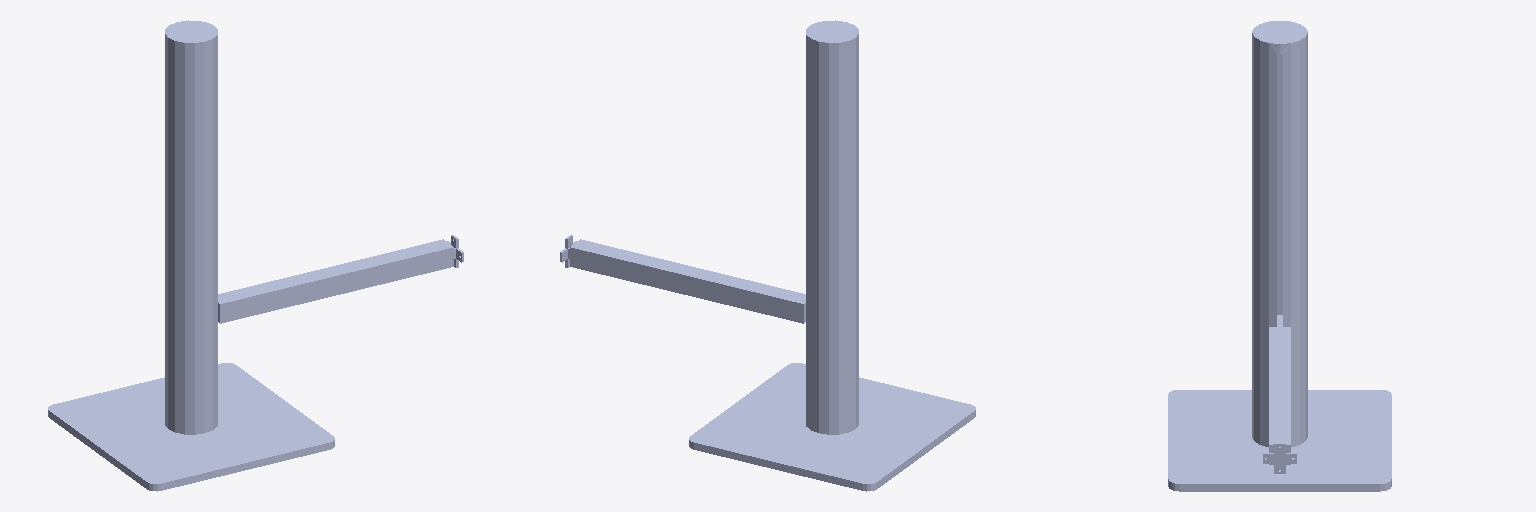
The robot description file, URDF, robot "my_robot":
<?xml version='1.0' encoding='utf-8'?>
<robot name="my_robot">
  <link name="base_link">
    <inertial>
      <origin xyz="-8.6455E-17 -7.6229E-18 0.0079611" rpy="0 0 0" />
      <mass value="2.4357" />
      <inertia ixx="0.031905" ixy="6.3527E-18" ixz="-1.6146E-20" iyy="0.031905" iyz="2.8691E-18" izz="0.063649" />
    </inertial>
    <visual>
      <origin xyz="0.000000 0.000000 0.000000" rpy="-0.000000 0.000000 -0.000000" />
      <geometry>
        <mesh filename="package://my_robot/meshes/base_link.STL" />
      </geometry>
      <material name="">
        <color rgba="0.79216 0.81961 0.93333 1" />
      </material>
    </visual>
    <collision>
      <origin xyz="0.000000 0.000000 0.000000" rpy="-0.000000 0.000000 -0.000000" />
      <geometry>
        <mesh filename="package://my_robot/meshes/base_link.STL" />
      </geometry>
    </collision>
  </link>
  <link name="Stand">
    <inertial>
      <origin xyz="-0.0014687 2.3065E-16 0.39733" rpy="0 0 0" />
      <mass value="5.8952" />
      <inertia ixx="0.32052" ixy="1.7511E-20" ixz="0.00080234" iyy="0.32022" iyz="-1.8103E-16" izz="0.0075058" />
    </inertial>
    <visual>
      <origin xyz="0.000000 0.000000 0.000000" rpy="-0.000000 0.000000 -0.000000" />
      <geometry>
        <mesh filename="package://my_robot/meshes/Stand.STL" />
      </geometry>
      <material name="">
        <color rgba="0.79216 0.81961 0.93333 1" />
      </material>
    </visual>
    <collision>
      <origin xyz="0.000000 0.000000 0.000000" rpy="-0.000000 0.000000 -0.000000" />
      <geometry>
        <mesh filename="package://my_robot/meshes/Stand.STL" />
      </geometry>
    </collision>
  </link>
  <joint name="q1" type="continuous">
    <origin xyz="0 0 0" rpy="0 0 0" />
    <parent link="base_link" />
    <child link="Stand" />
    <axis xyz="0 0 1" />
  </joint>
  <link name="Arm">
    <inertial>
      <origin xyz="0.27245 -8.9366E-17 5.5511E-17" rpy="0 0 0" />
      <mass value="0.4672" />
      <inertia ixx="0.00017046" ixy="4.1404E-18" ixz="-1.5384E-18" iyy="0.011946" iyz="-7.2188E-22" izz="0.011943" />
    </inertial>
    <visual>
      <origin xyz="0.000000 0.000000 -0.235000" rpy="-0.000000 0.000000 -0.000000" />
      <geometry>
        <mesh filename="package://my_robot/meshes/Arm.STL" />
      </geometry>
      <material name="">
        <color rgba="0.79216 0.81961 0.93333 1" />
      </material>
    </visual>
    <collision>
      <origin xyz="0.000000 0.000000 -0.235000" rpy="-0.000000 0.000000 -0.000000" />
      <geometry>
        <mesh filename="package://my_robot/meshes/Arm.STL" />
      </geometry>
    </collision>
  </link>
  <joint name="q2" type="prismatic">
    <origin xyz="0 0 0.235" rpy="0 0 0" />
    <parent link="Stand" />
    <child link="Arm" />
    <axis xyz="0 0 1" />
    <limit lower="0" upper="0.54" effort="0" velocity="0" />
  </joint>
  <link name="Hand">
    <inertial>
      <origin xyz="-0.22693 4.31E-07 0" rpy="0 -1.5707963267948966 0" />
      <mass value="0.21681" />
      <inertia ixx="1.9957E-05" ixy="2.2948E-08" ixz="0" iyy="0.0048493" iyz="0" izz="0.0048493" />
    </inertial>
    <visual>
      <origin xyz="0.235000 0.000000 -0.090000" rpy="0 -1.5707963267948966 0" />
      <geometry>
        <mesh filename="package://my_robot/meshes/Hand.STL" />
      </geometry>
      <material name="">
        <color rgba="0.79216 0.81961 0.93333 1" />
      </material>
    </visual>
    <collision>
      <origin xyz="0.235000 0.000000 -0.090000" rpy="0 -1.5707963267948966 0" />
      <geometry>
        <mesh filename="package://my_robot/meshes/Hand.STL" />
      </geometry>
    </collision>
  </link>
  <joint name="q3" type="prismatic">
    <origin xyz="0.09 0 0" rpy="0 1.5707963267948966 0" />
    <parent link="Arm" />
    <child link="Hand" />
    <axis xyz="0 0 1" />
    <limit lower="0" upper="0.4" effort="0" velocity="0" />
  </joint>
  <link name="End" />
  <joint name="Enf" type="fixed">
    <origin xyz="0 0 0.475" rpy="0 -1.5707963267948966 0" />
    <parent link="Hand" />
    <child link="End" />
    <axis xyz="0 0 0" />
  </joint>
</robot>

--- What the picture shows (computed from the rendered views, not written in the file) ---
Views: 3 orthographic renders of the robot side by side, from view 1: azimuth 30°, elevation 25°; view 2: azimuth 150°, elevation 25°; view 3: azimuth 270°, elevation 25°.
Model my_robot with 5 links and 4 joints (1 continuous, 2 prismatic, 1 fixed), rooted at base_link, posed every joint at zero.
Visible links, largest first — view 1: Stand, base_link, Arm; view 2: Stand, base_link, Arm; view 3: Stand, base_link, Arm, Hand.
Link boxes in pixels (x1,y1,x2,y2): Stand: (165,20,217,434); base_link: (48,363,334,491); Arm: (218,239,453,323); Stand: (806,20,858,434); base_link: (689,363,975,491); Arm: (570,239,805,323); Stand: (1252,21,1307,446); base_link: (1168,390,1391,491); Arm: (1269,315,1290,464); Hand: (1263,442,1296,473).
Size in the robot's own frame: 0.765 by 0.4 by 0.815 metres.
Meshes: 4 distinct files referenced, 4 mesh visuals loaded (4 binary STL).
